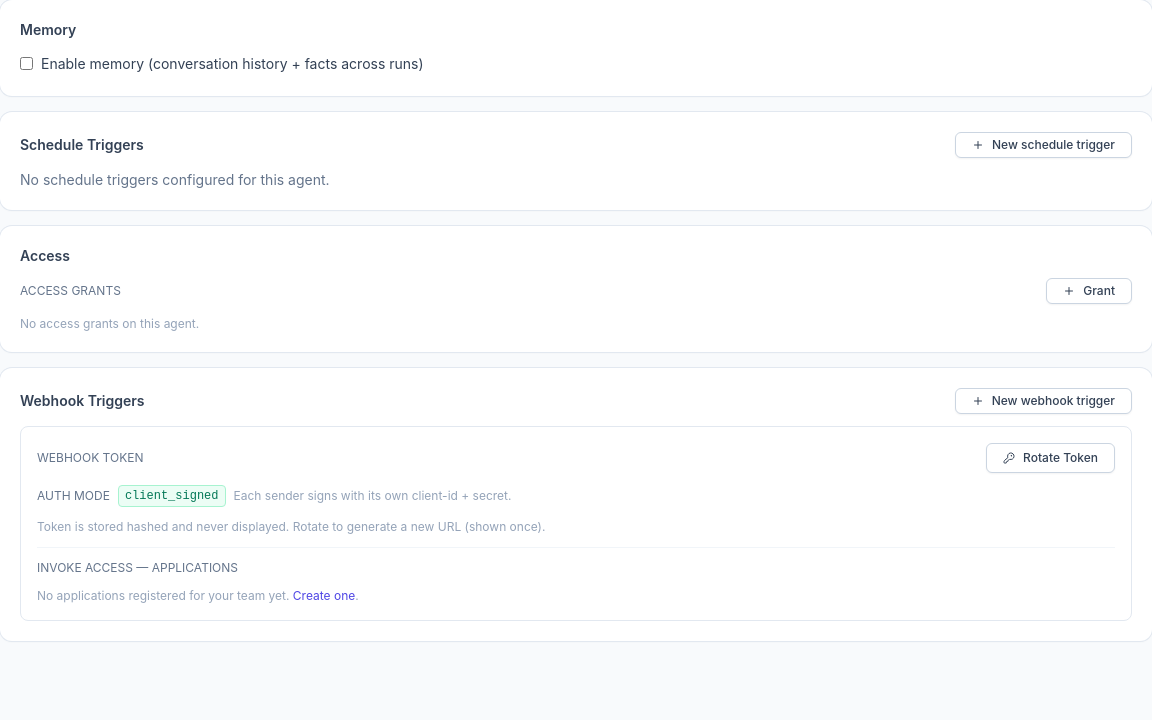
Test: SettingsTab › reveals webhook URL after Rotate Token is clicked
Click the button "Rotate Token" at [1051, 458], box [986, 443, 1115, 473]
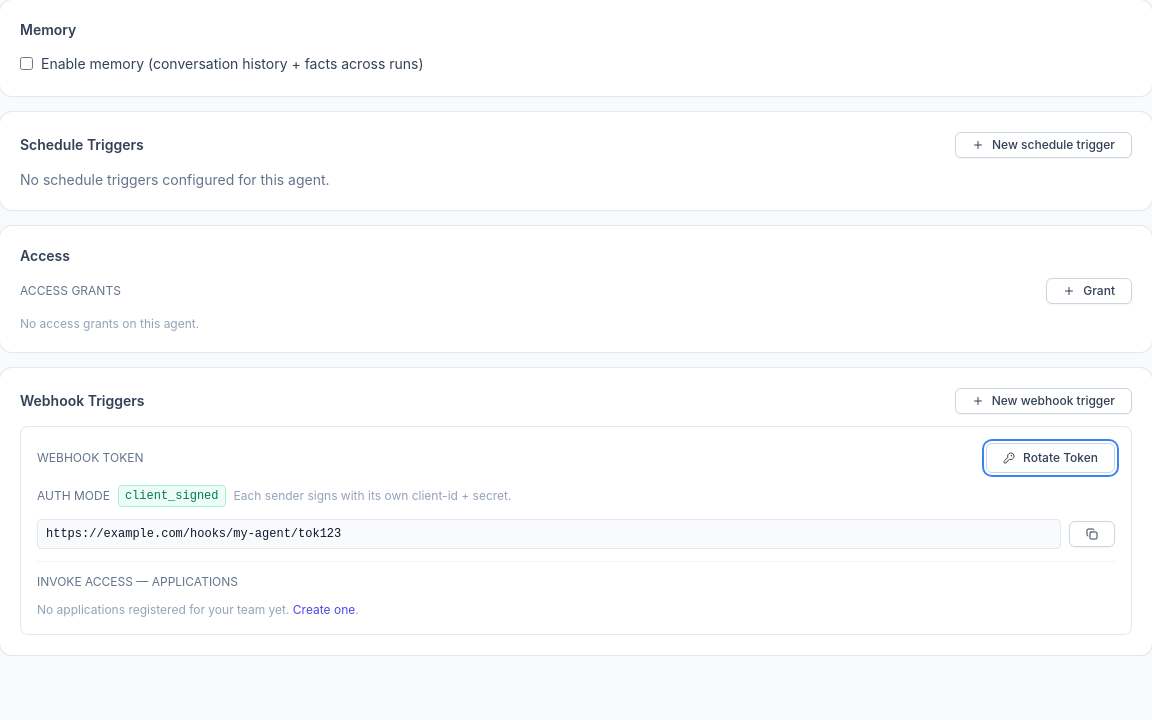
Check: the text "https://example.com/hooks/my-agent/tok123" is shown, box [37, 519, 1061, 549]
